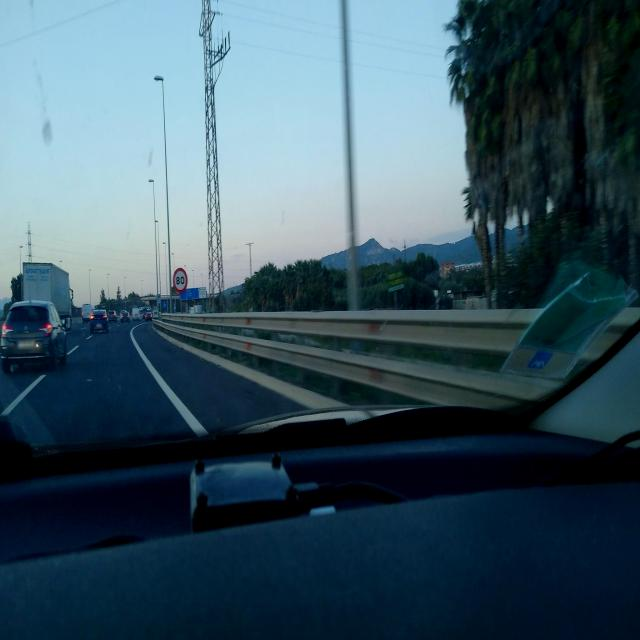car: (0, 298, 68, 374), (89, 308, 109, 334), (81, 302, 94, 324), (120, 310, 130, 324)
